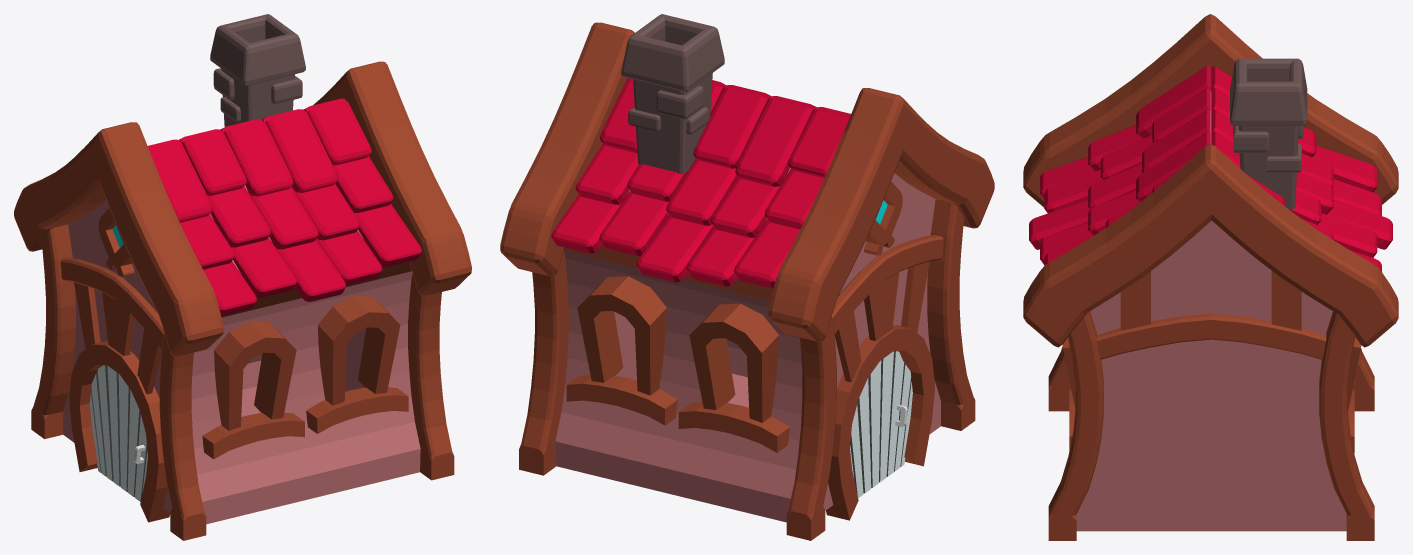
File: House.fbx
3 views of the same model, side by side, from view 1: azimuth 30°, elevation 25°; view 2: azimuth 150°, elevation 25°; view 3: azimuth 270°, elevation 25° (orthographic). The views are drawn at different scales.
Parts seen in each view (by area): view 1: House Border (Tralis), Roof (Genteng), House Wall (Tembok Rumah), Chimney (Cerobong Asep), Door House (Pintu Rumah); view 2: House Border (Tralis), Roof (Genteng), House Wall (Tembok Rumah), Chimney (Cerobong Asep), Door House (Pintu Rumah); view 3: House Border (Tralis), House Wall (Tembok Rumah), Roof (Genteng), Chimney (Cerobong Asep).
Part boxes in pixels (x1,y1,x2,y2): House Border (Tralis): (14, 61, 471, 540); Roof (Genteng): (147, 98, 422, 315); House Wall (Tembok Rumah): (63, 185, 420, 524); Chimney (Cerobong Asep): (210, 14, 305, 126); Door House (Pintu Rumah): (89, 365, 147, 501); House Border (Tralis): (500, 22, 994, 540); Roof (Genteng): (551, 78, 850, 288); House Wall (Tembok Rumah): (555, 167, 940, 522); Chimney (Cerobong Asep): (621, 14, 724, 173); Door House (Pintu Rumah): (850, 351, 912, 498); House Border (Tralis): (1023, 14, 1398, 540); House Wall (Tembok Rumah): (1076, 91, 1346, 531); Roof (Genteng): (1029, 65, 1392, 271); Chimney (Cerobong Asep): (1230, 58, 1307, 209).
Size of the model in its own units: 1414 by 1899 by 1484.
7 materials, 1 textured.
